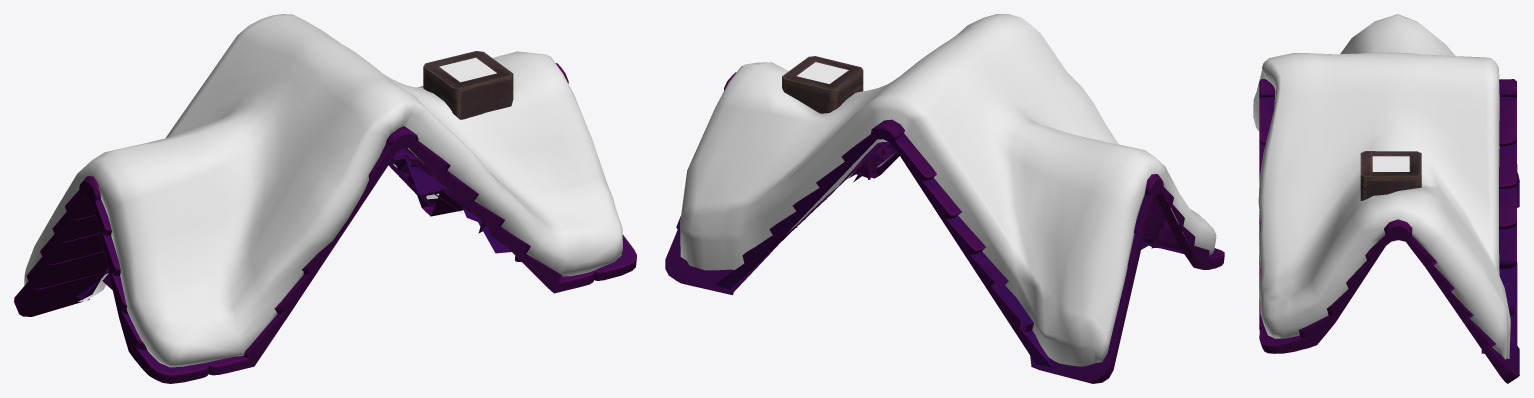
Rendered from standard_roof_4.glb.
The picture shows the model from 3 angles, left to right: view 1: azimuth 30°, elevation 25°; view 2: azimuth 150°, elevation 25°; view 3: azimuth 270°, elevation 25°; orthographic projection. The views are drawn at different scales.
Parts seen in each view (by area): view 1: Snow__mWinterSnow, back_low1__mRoofA, cm_low3__mChimneyhole; view 2: Snow__mWinterSnow, back_low1__mRoofA, cm_low3__mChimneyhole; view 3: Snow__mWinterSnow, back_low1__mRoofA, cm_low3__mChimneyhole.
Boxes of the visible parts, box(x1,y1,x2,y2) form: Snow__mWinterSnow: box(24, 14, 622, 367); back_low1__mRoofA: box(14, 51, 636, 383); cm_low3__mChimneyhole: box(439, 57, 496, 82); Snow__mWinterSnow: box(680, 14, 1216, 366); back_low1__mRoofA: box(665, 56, 1224, 383); cm_low3__mChimneyhole: box(797, 62, 848, 83); Snow__mWinterSnow: box(1253, 14, 1510, 359); back_low1__mRoofA: box(1259, 79, 1519, 383); cm_low3__mChimneyhole: box(1372, 156, 1410, 171).
Bounding box in the file's own units: 49.99 × 25.3 × 26.77.
Materials: 3 (1 with a texture image).
